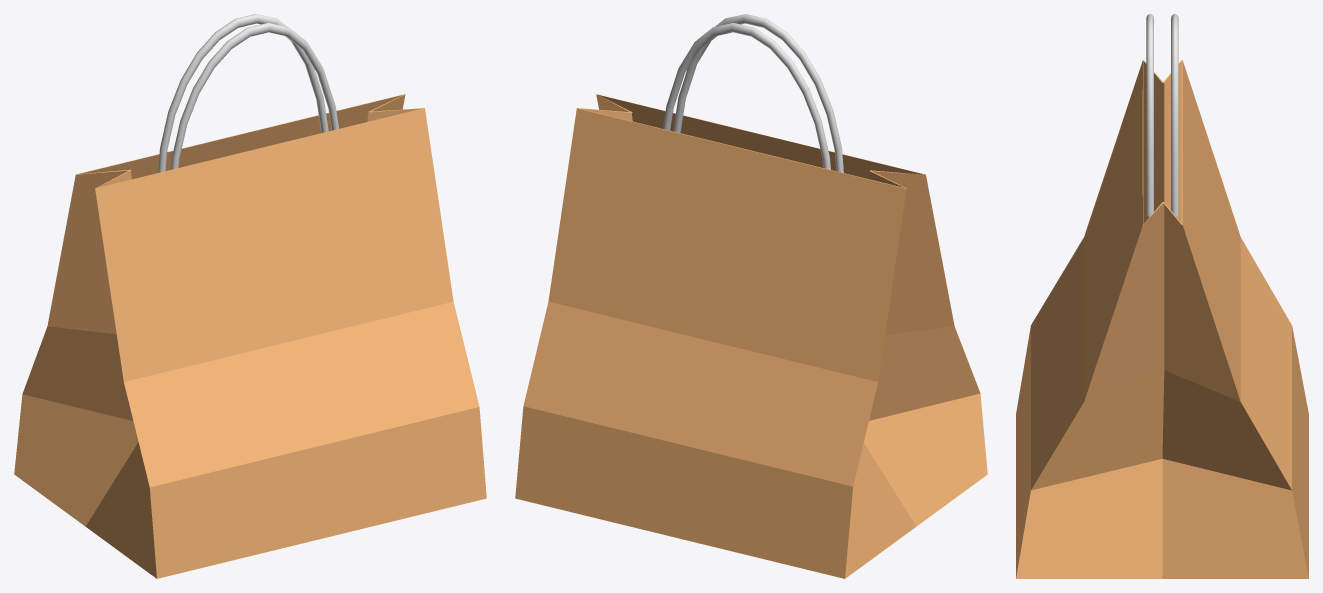
Rendered from DeliveryBag.fbx.
The picture shows the model from 3 angles, left to right: view 1: azimuth 30°, elevation 25°; view 2: azimuth 150°, elevation 25°; view 3: azimuth 270°, elevation 25°; orthographic projection. The views are drawn at different scales.
Visible parts, largest first — view 1: Cube, BezierCurve, BezierCurve.001; view 2: Cube, BezierCurve.001, BezierCurve; view 3: Cube, BezierCurve, BezierCurve.001.
Part boxes in pixels (bbox=[...]): Cube: bbox=[14, 94, 486, 578]; BezierCurve: bbox=[171, 23, 338, 169]; BezierCurve.001: bbox=[158, 14, 328, 172]; Cube: bbox=[515, 94, 987, 578]; BezierCurve.001: bbox=[663, 23, 830, 169]; BezierCurve: bbox=[673, 14, 843, 172]; Cube: bbox=[1016, 60, 1308, 578]; BezierCurve: bbox=[1146, 14, 1153, 216]; BezierCurve.001: bbox=[1171, 14, 1178, 216].
Size of the model in its own units: 200 by 270 by 150.
